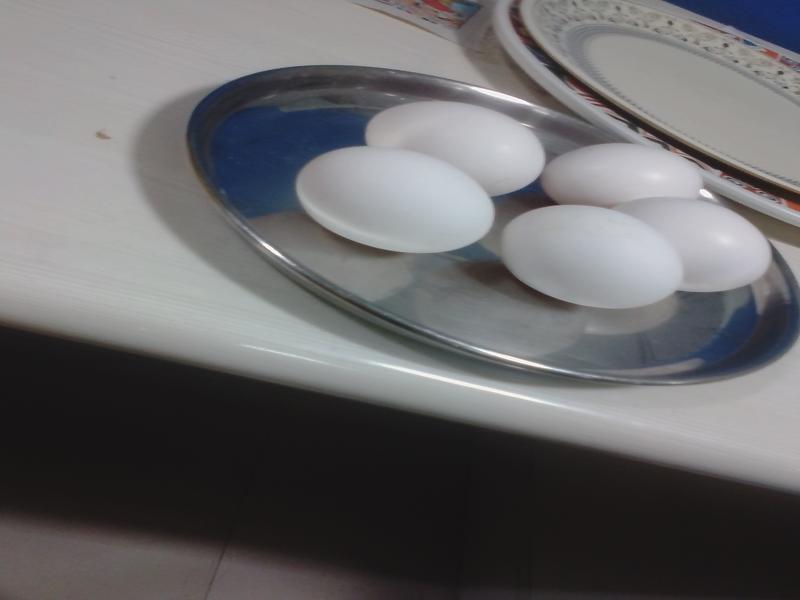egg: (297, 145, 499, 253)
